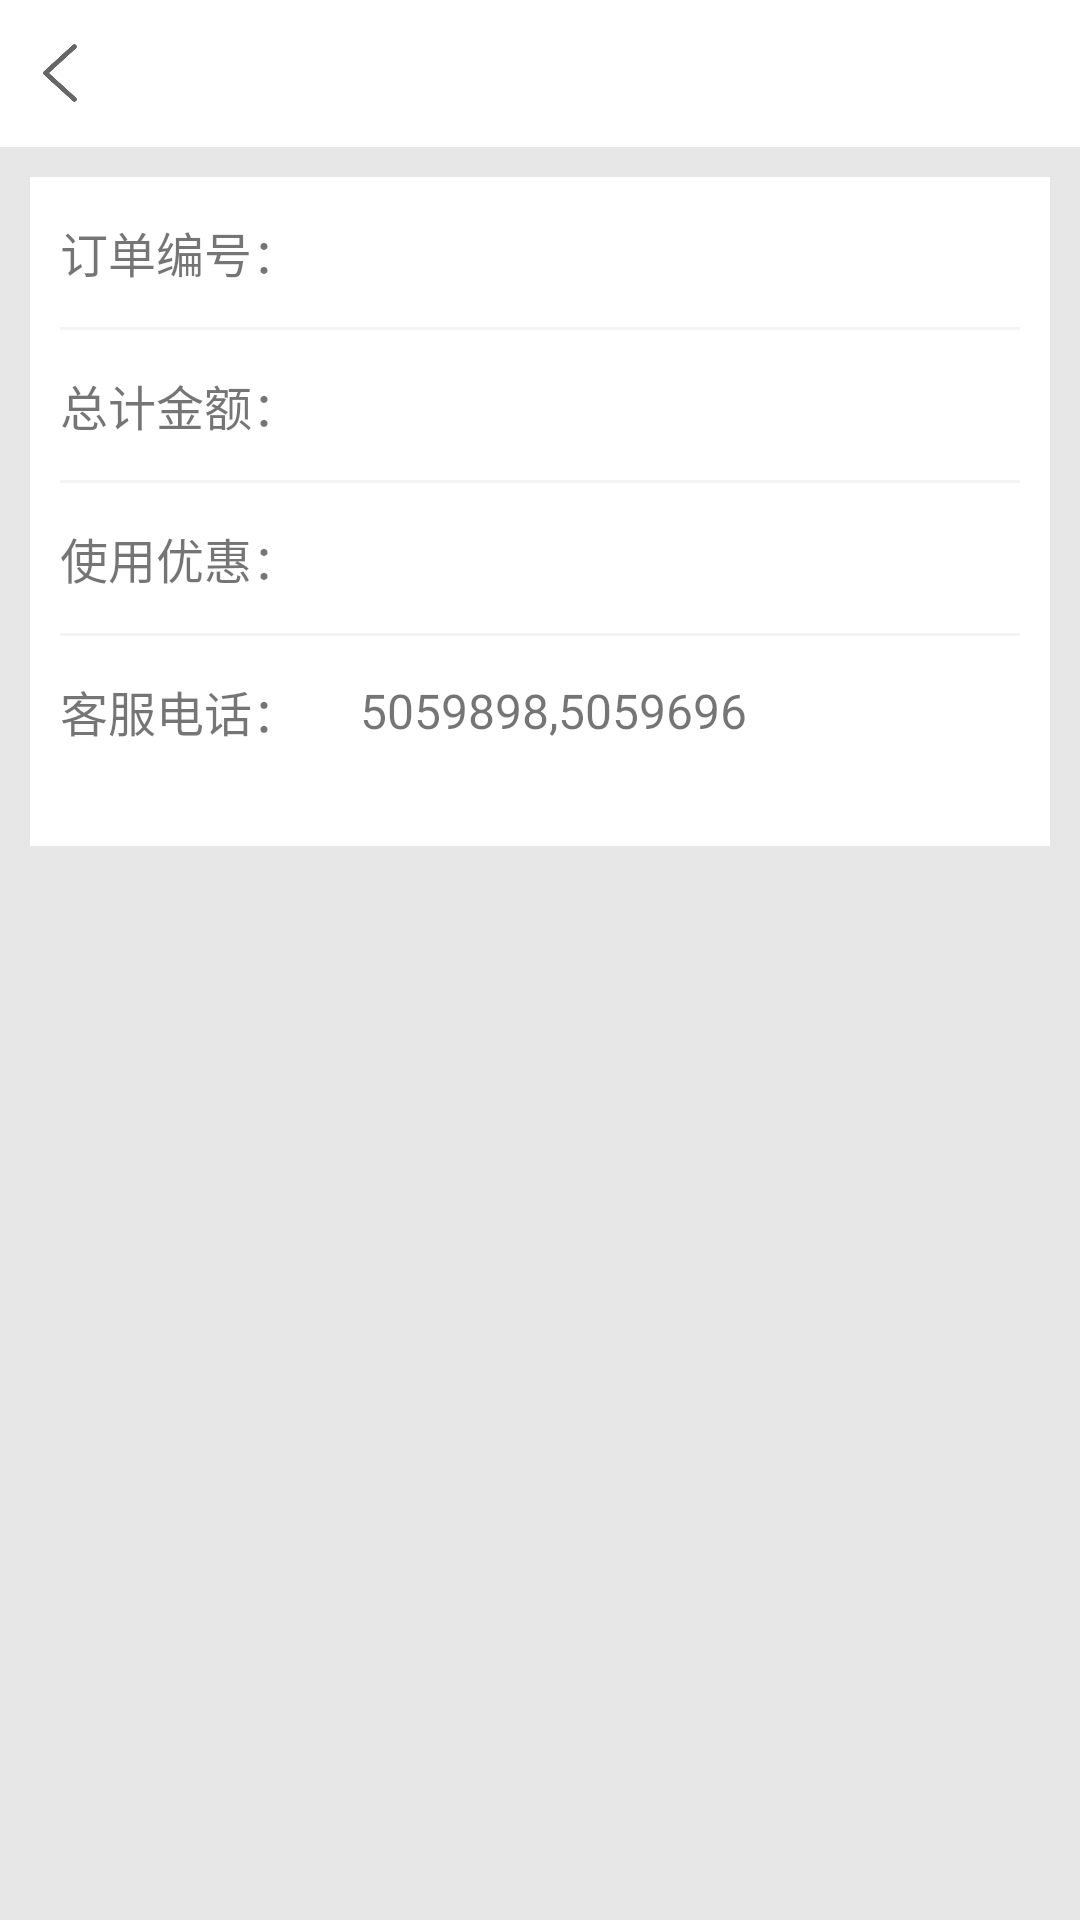

Named icons in this screenshot (1080 × 1920) and their bounding boxes, (x1, y1, x2, y2):
back: (43, 44, 77, 102)
